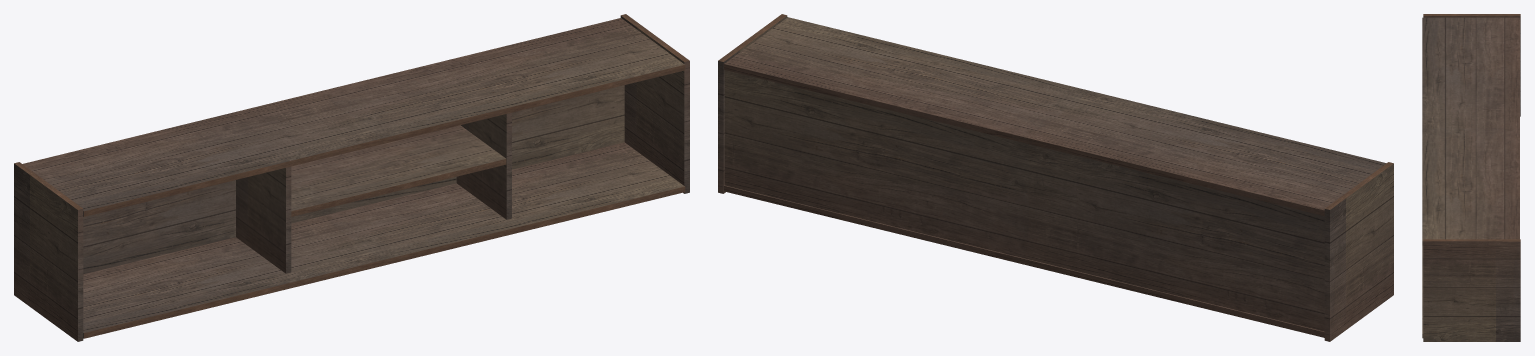
File: jov_shelf05b.fbx
The picture shows the model from 3 angles, left to right: view 1: azimuth 30°, elevation 25°; view 2: azimuth 150°, elevation 25°; view 3: azimuth 270°, elevation 25°; orthographic projection. The views are drawn at different scales.
Parts seen in each view (by area): view 1: jov_shelf05b; view 2: jov_shelf05b; view 3: jov_shelf05b.
Part boxes in pixels (x1=…): jov_shelf05b: x1=14, y1=14, x2=689, y2=341; jov_shelf05b: x1=718, y1=14, x2=1393, y2=341; jov_shelf05b: x1=1422, y1=14, x2=1520, y2=341.
Bounding box in the file's own units: 279 × 57.55 × 50.97.
